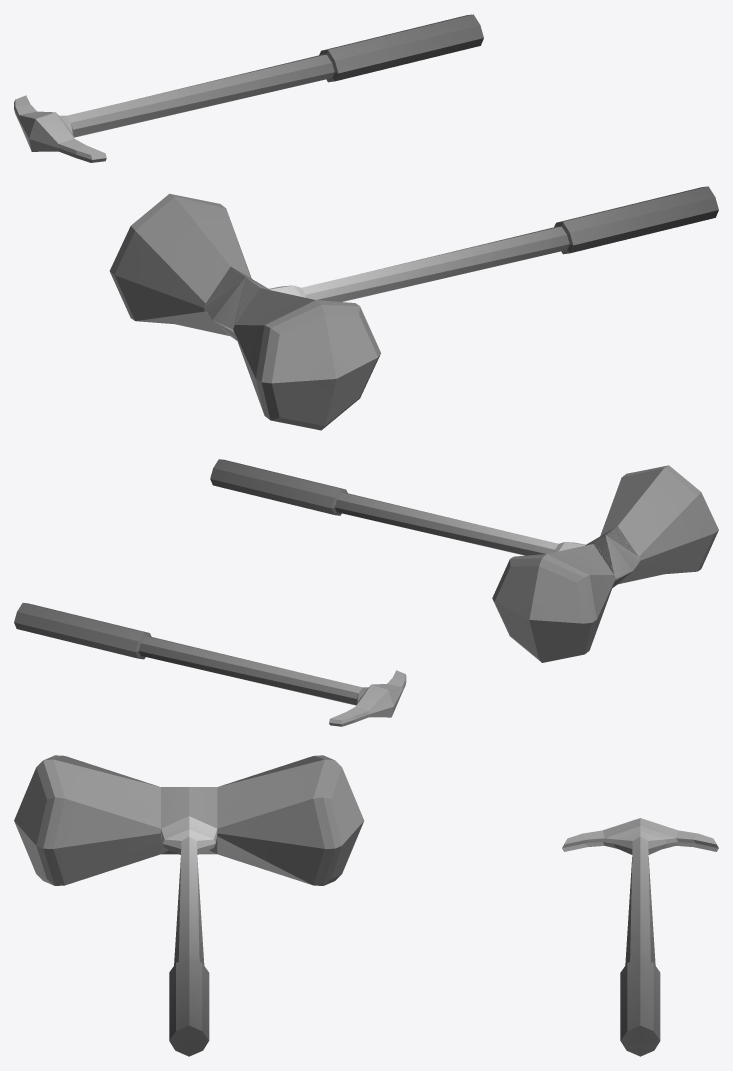
Rendered from lobotomytools.fbx.
3 renders of one model, top to bottom at view 1: azimuth 30°, elevation 25°; view 2: azimuth 150°, elevation 25°; view 3: azimuth 270°, elevation 25°, orthographic. The views are drawn at different scales.
Visible parts, largest first — view 1: Cube, Cube.001; view 2: Cube, Cube.001; view 3: Cube, Cube.001.
Part boxes in pixels (x1=…): Cube: x1=109, y1=186, x2=718, y2=430; Cube.001: x1=14, y1=14, x2=483, y2=162; Cube: x1=210, y1=459, x2=718, y2=662; Cube.001: x1=14, y1=603, x2=406, y2=726; Cube: x1=14, y1=755, x2=364, y2=1056; Cube.001: x1=562, y1=818, x2=718, y2=1056.
Bounding box in the file's own units: 42.32 × 9.85 × 51.4.
Materials: 1 (1 with a texture image).
